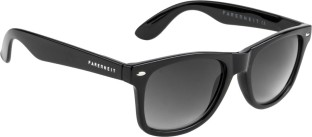sunglasses: (5, 5, 312, 133)
